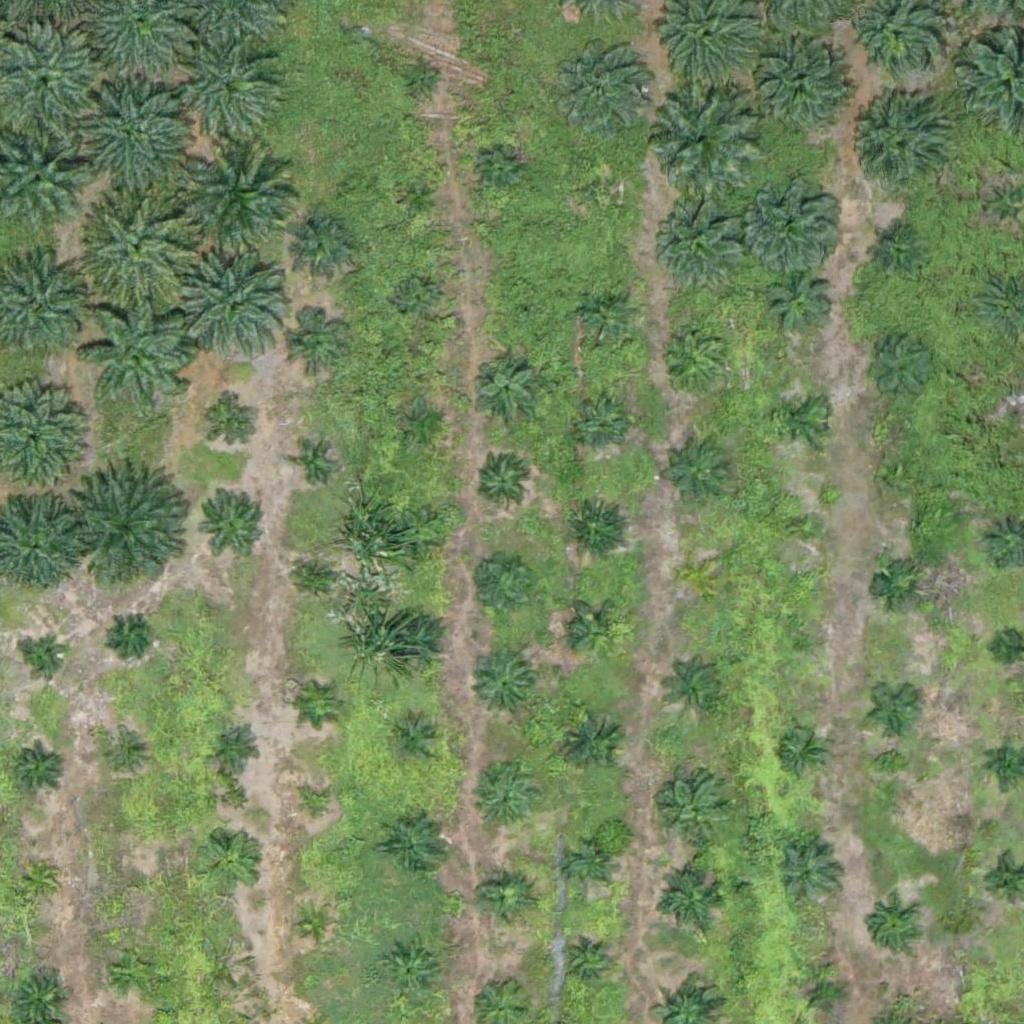Kelapa_Sawit: (69, 80, 194, 206), (181, 148, 306, 274), (71, 468, 196, 593), (641, 82, 754, 195), (83, 295, 196, 408), (180, 255, 292, 368), (84, 190, 196, 303), (181, 43, 281, 144), (551, 38, 651, 139), (752, 38, 852, 139), (842, 96, 942, 197), (747, 173, 847, 274), (660, 206, 747, 294), (463, 548, 538, 624), (195, 484, 270, 559), (861, 329, 936, 404), (472, 769, 535, 832), (778, 842, 841, 905), (385, 812, 448, 875), (381, 942, 444, 1005), (386, 612, 449, 675), (282, 311, 345, 374), (292, 213, 355, 276), (666, 441, 729, 504), (565, 496, 628, 559), (575, 286, 638, 349), (471, 653, 533, 716), (561, 713, 623, 776), (661, 870, 723, 933), (663, 780, 726, 842), (669, 658, 731, 721), (472, 355, 534, 418), (768, 268, 830, 331), (666, 331, 728, 394), (200, 830, 262, 893), (390, 716, 440, 767), (209, 401, 259, 452), (774, 391, 824, 442), (799, 968, 849, 1019), (397, 510, 447, 561), (479, 875, 529, 925), (871, 683, 921, 733), (571, 605, 621, 655), (778, 726, 828, 776), (866, 901, 916, 951), (14, 742, 64, 792), (479, 457, 529, 507), (573, 398, 623, 448), (873, 563, 923, 613), (210, 721, 260, 771), (110, 946, 160, 996), (560, 936, 609, 987), (304, 686, 342, 724), (111, 614, 149, 652), (881, 459, 919, 497), (397, 277, 435, 315), (401, 179, 439, 217), (402, 60, 440, 98), (404, 403, 442, 441), (297, 787, 335, 825), (295, 906, 333, 944), (19, 860, 57, 898), (28, 640, 65, 678), (879, 235, 917, 272), (587, 173, 625, 210), (570, 845, 607, 883), (483, 153, 520, 191), (105, 738, 142, 776), (117, 867, 154, 905), (295, 448, 332, 485), (299, 558, 336, 595), (993, 635, 1018, 660), (792, 628, 817, 653), (792, 512, 817, 537), (687, 566, 712, 591), (514, 303, 539, 328)
